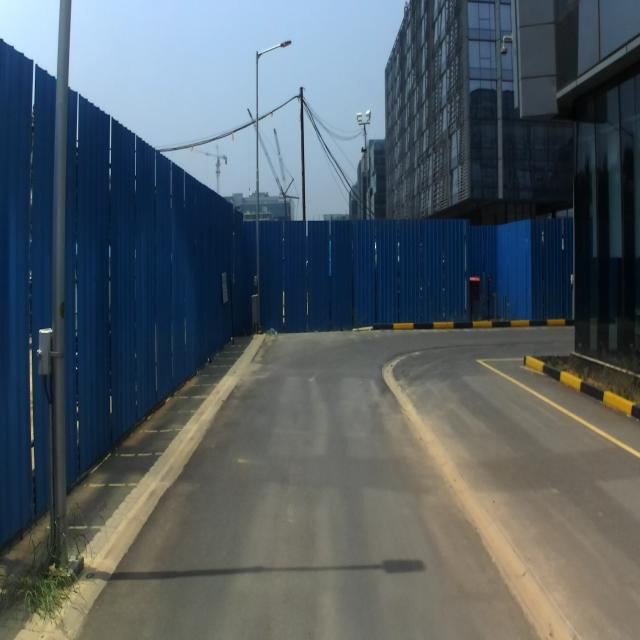electric pole ahead at: (33, 0, 84, 574)
